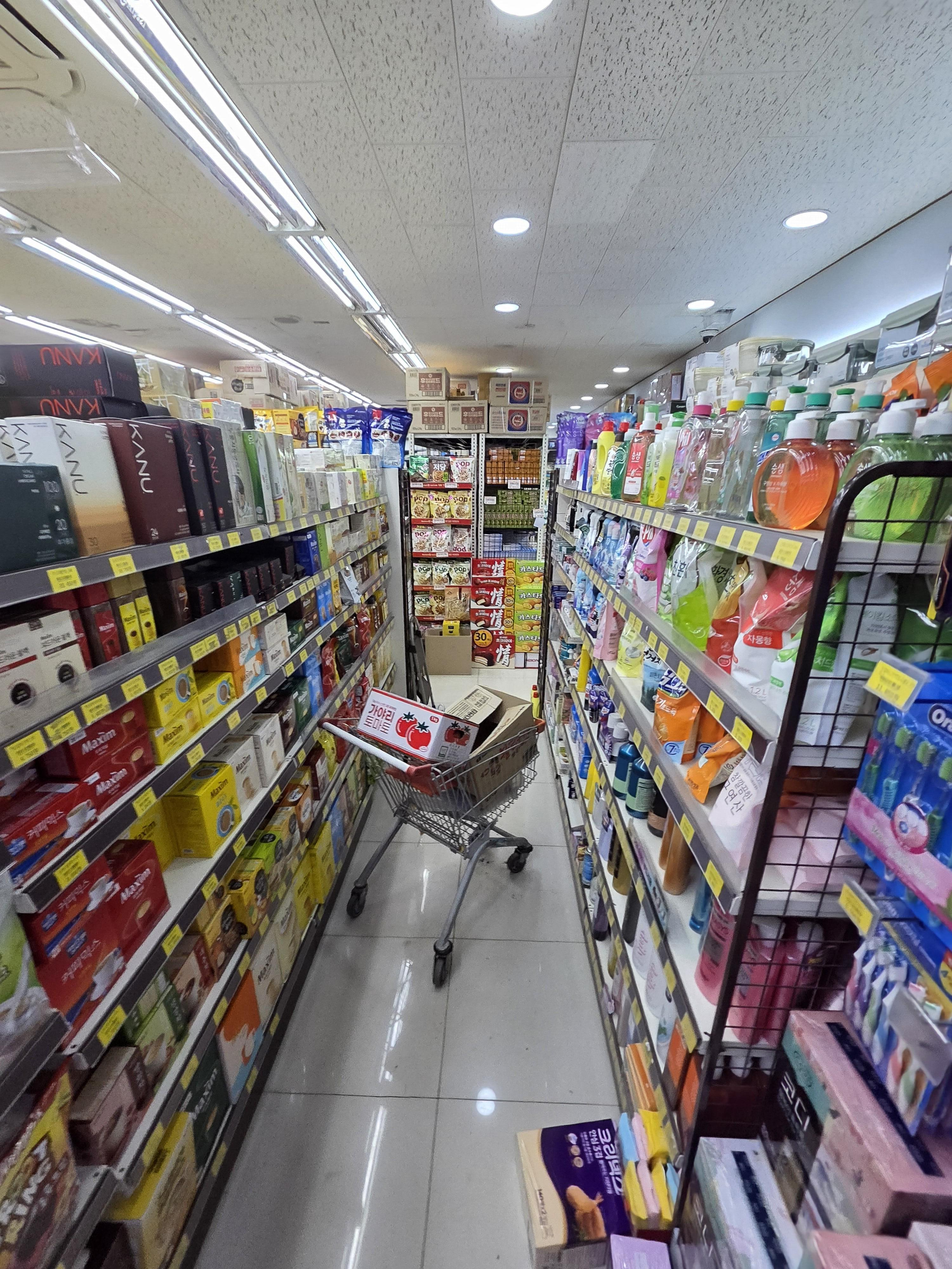fully_cart: (311, 667, 552, 987)
